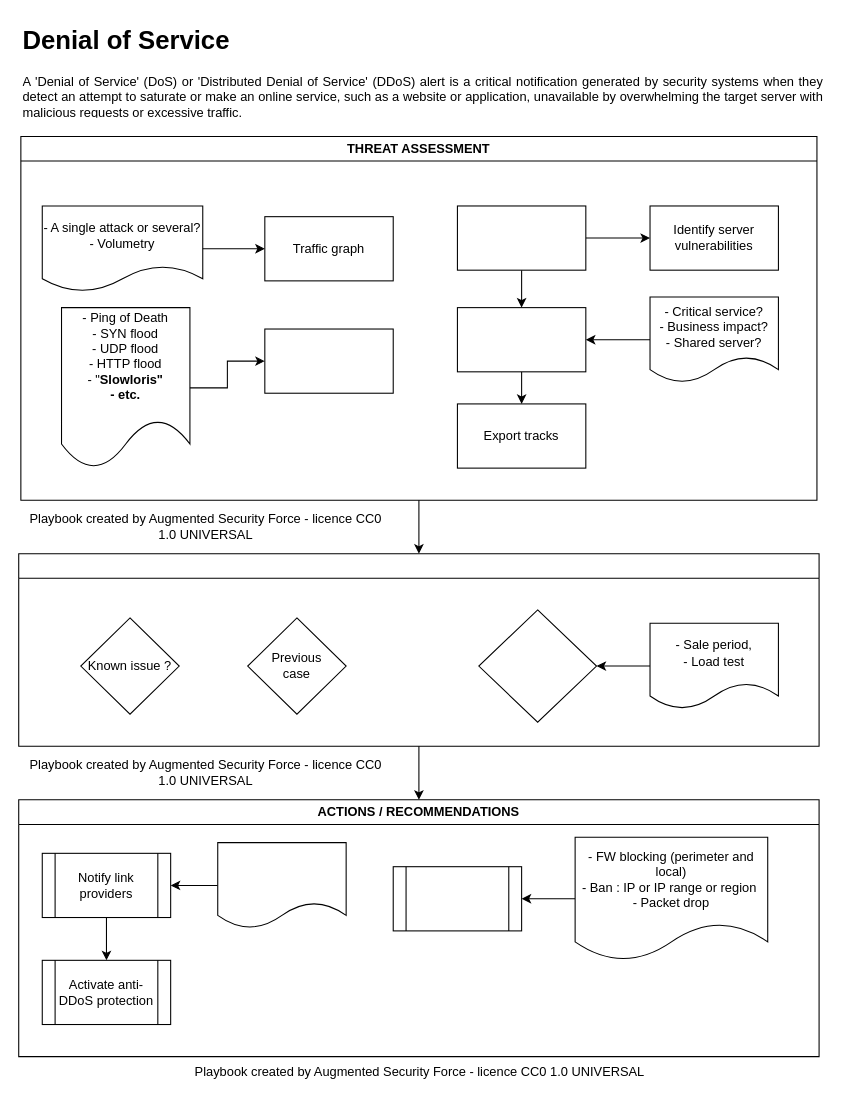
Image size: 842x1106. Some labels were removed from this diagram. Each missing label, with the box of its shape:
- Beware of SaaS / IaaS with costs based on BP usage.: (217, 842, 346, 928)
Actions in progress: (478, 609, 597, 722)
Blocking identified IPs: (392, 866, 522, 931)
DOUBT RESOLUTION: (18, 553, 819, 746)
Identify target server: (456, 205, 586, 270)
Identify target service(s): (456, 307, 586, 372)
Identify the method: (264, 328, 393, 393)
